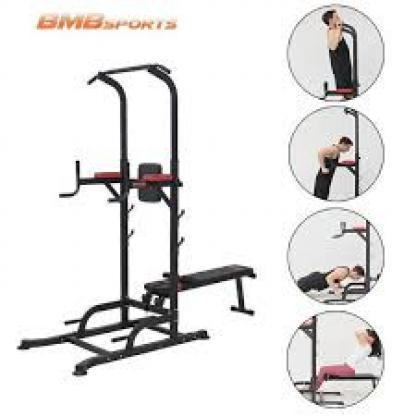chinning dipping: (14, 63, 183, 376)
